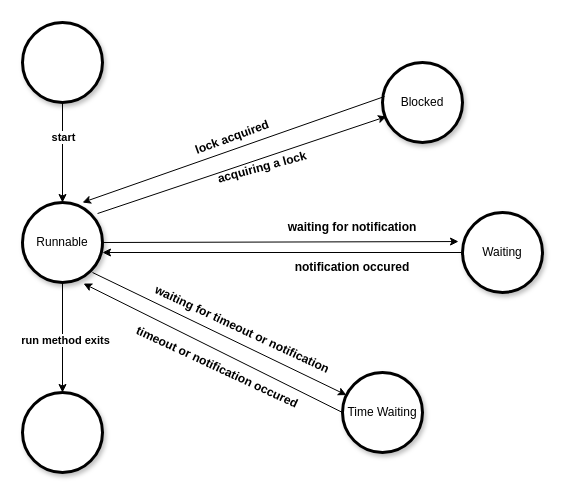
This 567x498 diagram has some shape labels left out. Each missing label, with the centre of its shape:
"New" belongs at point 63,63.
"Terminated" belongs at point 63,433.
